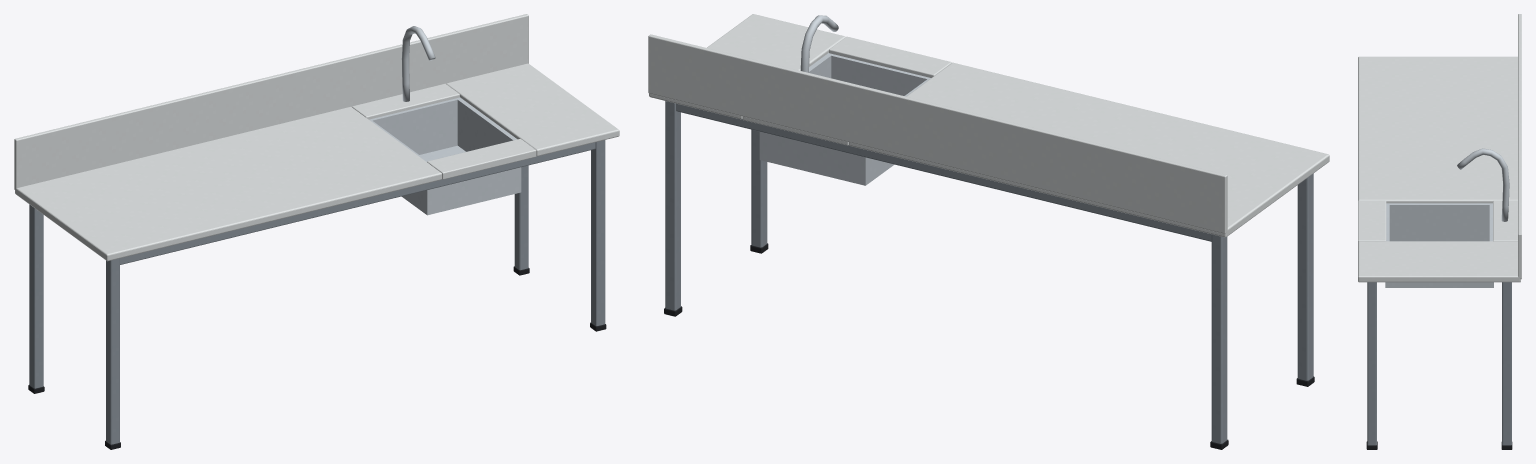
File: lab-bench.glb
The picture shows the model from 3 angles, left to right: view 1: azimuth 30°, elevation 25°; view 2: azimuth 150°, elevation 25°; view 3: azimuth 270°, elevation 25°; orthographic projection. The views are drawn at different scales.
Parts seen in each view (by area): view 1: Chemical bench surface left, Lab back splash, Chemical bench surface right, Continuous open laboratory basin, Under-top frame, Table support leg.002, Table support leg.001, Table support leg, Sink counter return, Sink counter return.001, Table support leg.003, Gooseneck tap; view 2: Lab back splash, Chemical bench surface left, Continuous open laboratory basin, Chemical bench surface right, Under-top frame.001, Table support leg.001, Table support leg, Table support leg.003, Sink counter return, Table support leg.002, Gooseneck tap; view 3: Chemical bench surface left, Chemical bench surface right, Continuous open laboratory basin, Table support leg.002, Table support leg.003, Sink counter return, Lab back splash, Sink counter return.001, Gooseneck tap.
Boxes of the visible parts, left/top/right/bottom form: Chemical bench surface left: left=15, top=107, right=441, bottom=261; Lab back splash: left=14, top=14, right=528, bottom=190; Chemical bench surface right: left=446, top=63, right=619, bottom=156; Continuous open laboratory basin: left=369, top=97, right=521, bottom=215; Under-top frame: left=120, top=142, right=595, bottom=264; Table support leg.002: left=591, top=140, right=605, bottom=325; Table support leg.001: left=29, top=204, right=43, bottom=388; Table support leg: left=106, top=258, right=119, bottom=444; Sink counter return: left=427, top=139, right=536, bottom=179; Sink counter return.001: left=352, top=83, right=459, bottom=119; Table support leg.003: left=514, top=165, right=528, bottom=270; Gooseneck tap: left=401, top=26, right=435, bottom=101; Lab back splash: left=648, top=34, right=1227, bottom=233; Chemical bench surface left: left=849, top=62, right=1329, bottom=237; Continuous open laboratory basin: left=759, top=53, right=930, bottom=185; Chemical bench surface right: left=649, top=14, right=845, bottom=119; Under-top frame.001: left=676, top=103, right=1211, bottom=241; Table support leg.001: left=1211, top=234, right=1227, bottom=443; Table support leg: left=1297, top=173, right=1313, bottom=380; Table support leg.003: left=665, top=101, right=680, bottom=310; Sink counter return: left=829, top=36, right=951, bottom=77; Table support leg.002: left=751, top=129, right=767, bottom=247; Gooseneck tap: left=800, top=15, right=838, bottom=72; Chemical bench surface left: left=1358, top=56, right=1517, bottom=203; Chemical bench surface right: left=1358, top=241, right=1520, bottom=282; Continuous open laboratory basin: left=1385, top=203, right=1493, bottom=287; Table support leg.002: left=1367, top=282, right=1376, bottom=445; Table support leg.003: left=1502, top=282, right=1511, bottom=445; Sink counter return: left=1358, top=200, right=1386, bottom=241; Lab back splash: left=1518, top=14, right=1521, bottom=279; Sink counter return.001: left=1493, top=200, right=1517, bottom=241; Gooseneck tap: left=1457, top=148, right=1509, bottom=221.
Size of the model in its own units: 2.4 by 1.26 by 0.754.
Materials: 5 (5 with a texture image).
